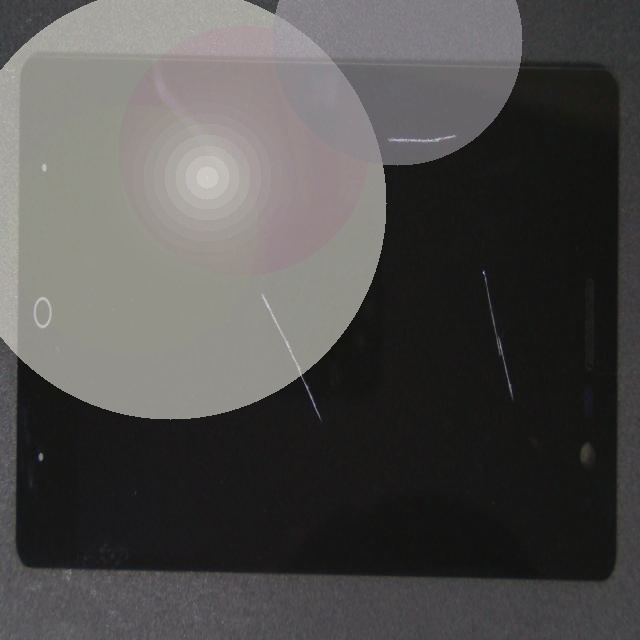scratch: (228, 55, 640, 474), (209, 291, 467, 554), (273, 71, 640, 186)
